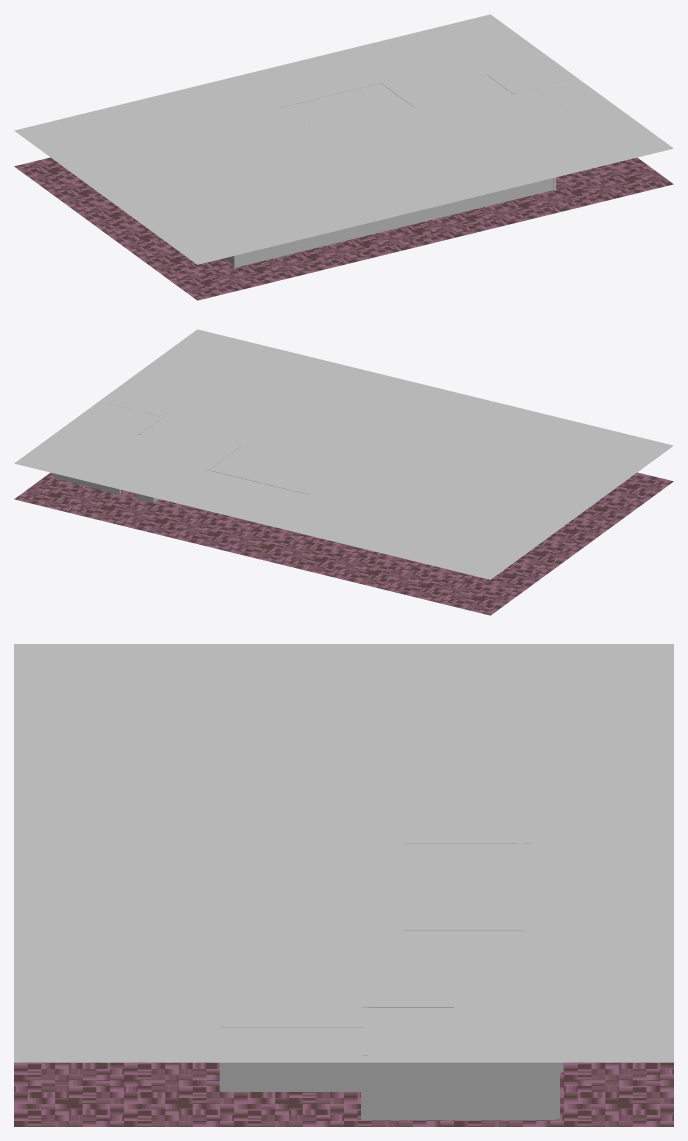
Rendered from plattegrond.obj.
The picture shows the model from 3 angles, top to bottom: view 1: azimuth 30°, elevation 25°; view 2: azimuth 150°, elevation 25°; view 3: azimuth 270°, elevation 25°; orthographic projection. The views are drawn at different scales.
Parts seen in each view (by area): view 1: Vloer.001_Plane.001, Vloer_Plane, Cube.008; view 2: Vloer.001_Plane.001, Vloer_Plane; view 3: Vloer.001_Plane.001, Vloer_Plane, Cube.021, Cube.010.
Boxes of the visible parts, <box> form: Vloer.001_Plane.001: <box>14,14,673,264</box>; Vloer_Plane: <box>14,157,673,300</box>; Cube.008: <box>232,178,553,267</box>; Vloer.001_Plane.001: <box>14,329,673,579</box>; Vloer_Plane: <box>14,472,673,615</box>; Vloer.001_Plane.001: <box>14,644,673,1062</box>; Vloer_Plane: <box>14,1062,673,1126</box>; Cube.021: <box>361,1062,556,1120</box>; Cube.010: <box>220,1025,362,1091</box>.
Bounding box in the file's own units: 90 × 7 × 60.
